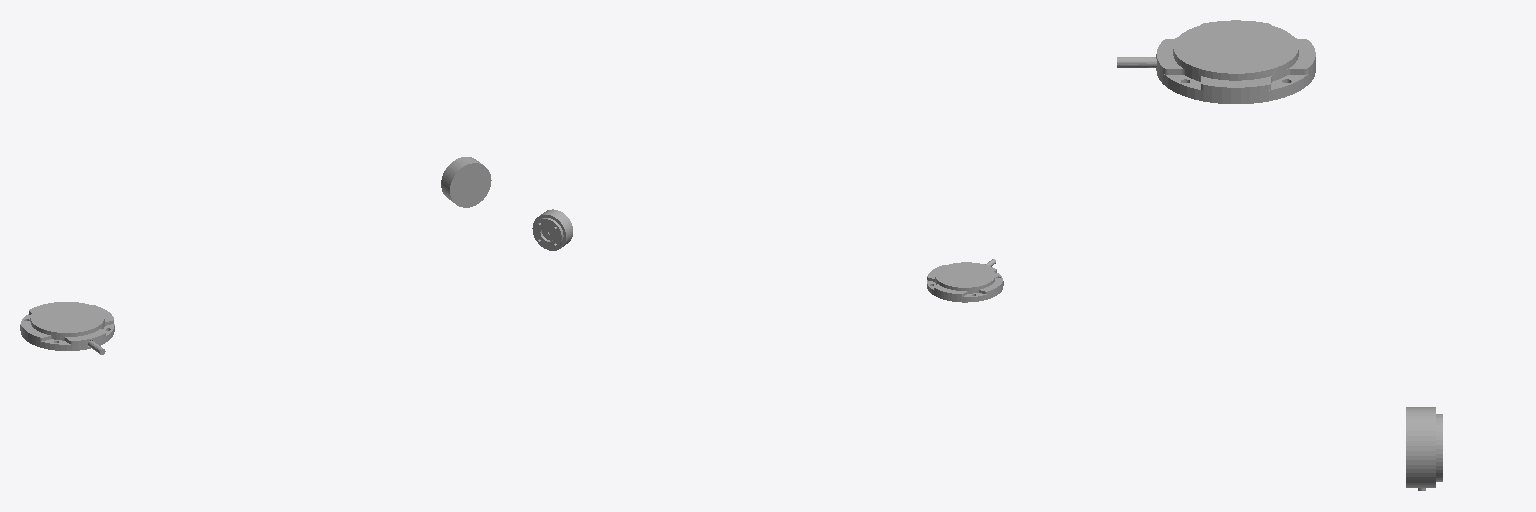
The robot description file, URDF, robot "ur5":
<?xml version="1.0" ?>
<!-- =================================================================================== -->
<!-- |    This document was autogenerated by xacro from /opt/ros/kinetic/share/ur_description/urdf/ur5_robot.urdf.xacro | -->
<!-- |    EDITING THIS FILE BY HAND IS NOT RECOMMENDED                                 | -->
<!-- =================================================================================== -->
<robot name="ur5" xmlns:xacro="http://ros.org/wiki/xacro">
  <gazebo>
    <plugin filename="libgazebo_ros_control.so" name="ros_control">
      <!--robotNamespace>/</robotNamespace-->
      <!--robotSimType>gazebo_ros_control/DefaultRobotHWSim</robotSimType-->
    </plugin>
    <!--
    <plugin name="gazebo_ros_power_monitor_controller" filename="libgazebo_ros_power_monitor.so">
      <alwaysOn>true</alwaysOn>
      <updateRate>1.0</updateRate>
      <timeout>5</timeout>
      <powerStateTopic>power_state</powerStateTopic>
      <powerStateRate>10.0</powerStateRate>
      <fullChargeCapacity>87.78</fullChargeCapacity>
      <dischargeRate>-474</dischargeRate>
      <chargeRate>525</chargeRate>
      <dischargeVoltage>15.52</dischargeVoltage>
      <chargeVoltage>16.41</chargeVoltage>
    </plugin>
-->
  </gazebo>
  <!-- measured from model -->
  <!--property name="shoulder_height" value="0.089159" /-->
  <!--property name="shoulder_offset" value="0.13585" /-->
  <!-- shoulder_offset - elbow_offset + wrist_1_length = 0.10915 -->
  <!--property name="upper_arm_length" value="0.42500" /-->
  <!--property name="elbow_offset" value="0.1197" /-->
  <!-- CAD measured -->
  <!--property name="forearm_length" value="0.39225" /-->
  <!--property name="wrist_1_length" value="0.093" /-->
  <!-- CAD measured -->
  <!--property name="wrist_2_length" value="0.09465" /-->
  <!-- In CAD this distance is 0.930, but in the spec it is 0.09465 -->
  <!--property name="wrist_3_length" value="0.0823" /-->
  <!-- manually measured -->
  <link name="base_link">
    <visual>
      <geometry>
        <mesh filename="package://ur_description/meshes/ur5/visual/base.obj"/>
      </geometry>
      <material name="LightGrey">
        <color rgba="0.7 0.7 0.7 1.0"/>
      </material>
    </visual>
    <collision>
      <geometry>
        <mesh filename="package://ur_description/meshes/ur5/collision/base.stl"/>
      </geometry>
    </collision>
    <inertial>
      <mass value="4.0"/>
      <origin rpy="0 0 0" xyz="0.0 0.0 0.0"/>
      <inertia ixx="0.00443333156" ixy="0.0" ixz="0.0" iyy="0.00443333156" iyz="0.0" izz="0.0072"/>
    </inertial>
  </link>
  <joint name="shoulder_pan_joint" type="revolute">
    <parent link="base_link"/>
    <child link="shoulder_link"/>
    <origin rpy="0.0 0.0 0.0" xyz="0.0 0.0 0.089159"/>
    <axis xyz="0 0 1"/>
    <limit effort="150.0" lower="-6.2831853" upper="6.2831853" velocity="3.15"/>
    <dynamics damping="0.0" friction="0.0"/>
  </joint>
  <link name="shoulder_link">
    <visual>
      <geometry>
        <mesh filename="package://ur_description/meshes/ur5/visual/shoulder.obj"/>
      </geometry>
      <material name="LightGrey">
        <color rgba="0.7 0.7 0.7 1.0"/>
      </material>
    </visual>
    <collision>
      <geometry>
        <mesh filename="package://ur_description/meshes/ur5/collision/shoulder.stl"/>
      </geometry>
    </collision>
    <inertial>
      <mass value="3.7"/>
      <origin rpy="0 0 0" xyz="0.0 0.0 0.0"/>
      <inertia ixx="0.010267495893" ixy="0.0" ixz="0.0" iyy="0.010267495893" iyz="0.0" izz="0.00666"/>
    </inertial>
  </link>
  <joint name="shoulder_lift_joint" type="revolute">
    <parent link="shoulder_link"/>
    <child link="upper_arm_link"/>
    <origin rpy="0.0 1.570796325 0.0" xyz="0.0 0.13585 0.0"/>
    <axis xyz="0 1 0"/>
    <limit effort="150.0" lower="-6.2831853" upper="6.2831853" velocity="3.15"/>
    <dynamics damping="0.0" friction="0.0"/>
  </joint>
  <link name="upper_arm_link">
    <visual>
      <geometry>
        <mesh filename="package://ur_description/meshes/ur5/visual/upperarm.obj"/>
      </geometry>
      <material name="LightGrey">
        <color rgba="0.7 0.7 0.7 1.0"/>
      </material>
    </visual>
    <collision>
      <geometry>
        <mesh filename="package://ur_description/meshes/ur5/collision/upperarm.stl"/>
      </geometry>
    </collision>
    <inertial>
      <mass value="8.393"/>
      <origin rpy="0 0 0" xyz="0.0 0.0 0.28"/>
      <inertia ixx="0.22689067591" ixy="0.0" ixz="0.0" iyy="0.22689067591" iyz="0.0" izz="0.0151074"/>
    </inertial>
  </link>
  <joint name="elbow_joint" type="revolute">
    <parent link="upper_arm_link"/>
    <child link="forearm_link"/>
    <origin rpy="0.0 0.0 0.0" xyz="0.0 -0.1197 0.425"/>
    <axis xyz="0 1 0"/>
    <limit effort="150.0" lower="-6.2831853" upper="6.2831853" velocity="3.15"/>
    <dynamics damping="0.0" friction="0.0"/>
  </joint>
  <link name="forearm_link">
    <visual>
      <geometry>
        <mesh filename="package://ur_description/meshes/ur5/visual/forearm.obj"/>
      </geometry>
      <material name="LightGrey">
        <color rgba="0.7 0.7 0.7 1.0"/>
      </material>
    </visual>
    <collision>
      <geometry>
        <mesh filename="package://ur_description/meshes/ur5/collision/forearm.stl"/>
      </geometry>
    </collision>
    <inertial>
      <mass value="2.275"/>
      <origin rpy="0 0 0" xyz="0.0 0.0 0.25"/>
      <inertia ixx="0.049443313556" ixy="0.0" ixz="0.0" iyy="0.049443313556" iyz="0.0" izz="0.004095"/>
    </inertial>
  </link>
  <joint name="wrist_1_joint" type="revolute">
    <parent link="forearm_link"/>
    <child link="wrist_1_link"/>
    <origin rpy="0.0 1.570796325 0.0" xyz="0.0 0.0 0.39225"/>
    <axis xyz="0 1 0"/>
    <limit effort="28.0" lower="-6.2831853" upper="6.2831853" velocity="3.2"/>
    <dynamics damping="0.0" friction="0.0"/>
  </joint>
  <link name="wrist_1_link">
    <visual>
      <geometry>
        <mesh filename="package://ur_description/meshes/ur5/visual/wrist1.obj"/>
      </geometry>
      <material name="LightGrey">
        <color rgba="0.7 0.7 0.7 1.0"/>
      </material>
    </visual>
    <collision>
      <geometry>
        <mesh filename="package://ur_description/meshes/ur5/collision/wrist1.stl"/>
      </geometry>
    </collision>
    <inertial>
      <mass value="1.219"/>
      <origin rpy="0 0 0" xyz="0.0 0.0 0.0"/>
      <inertia ixx="0.111172755531" ixy="0.0" ixz="0.0" iyy="0.111172755531" iyz="0.0" izz="0.21942"/>
    </inertial>
  </link>
  <joint name="wrist_2_joint" type="revolute">
    <parent link="wrist_1_link"/>
    <child link="wrist_2_link"/>
    <origin rpy="0.0 0.0 0.0" xyz="0.0 0.093 0.0"/>
    <axis xyz="0 0 1"/>
    <limit effort="28.0" lower="-6.2831853" upper="6.2831853" velocity="3.2"/>
    <dynamics damping="0.0" friction="0.0"/>
  </joint>
  <link name="wrist_2_link">
    <visual>
      <geometry>
        <mesh filename="package://ur_description/meshes/ur5/visual/wrist2.obj"/>
      </geometry>
      <material name="LightGrey">
        <color rgba="0.7 0.7 0.7 1.0"/>
      </material>
    </visual>
    <collision>
      <geometry>
        <mesh filename="package://ur_description/meshes/ur5/collision/wrist2.stl"/>
      </geometry>
    </collision>
    <inertial>
      <mass value="1.219"/>
      <origin rpy="0 0 0" xyz="0.0 0.0 0.0"/>
      <inertia ixx="0.111172755531" ixy="0.0" ixz="0.0" iyy="0.111172755531" iyz="0.0" izz="0.21942"/>
    </inertial>
  </link>
  <joint name="wrist_3_joint" type="revolute">
    <parent link="wrist_2_link"/>
    <child link="wrist_3_link"/>
    <origin rpy="0.0 0.0 0.0" xyz="0.0 0.0 0.09465"/>
    <axis xyz="0 1 0"/>
    <limit effort="28.0" lower="-6.2831853" upper="6.2831853" velocity="3.2"/>
    <dynamics damping="0.0" friction="0.0"/>
  </joint>
  <link name="wrist_3_link">
    <visual>
      <geometry>
        <mesh filename="package://ur_description/meshes/ur5/visual/wrist3.obj"/>
      </geometry>
      <material name="LightGrey">
        <color rgba="0.7 0.7 0.7 1.0"/>
      </material>
    </visual>
    <collision>
      <geometry>
        <mesh filename="package://ur_description/meshes/ur5/collision/wrist3.stl"/>
      </geometry>
    </collision>
    <inertial>
      <mass value="0.1879"/>
      <origin rpy="0 0 0" xyz="0.0 0.0 0.0"/>
      <inertia ixx="0.0171364731454" ixy="0.0" ixz="0.0" iyy="0.0171364731454" iyz="0.0" izz="0.033822"/>
    </inertial>
  </link>
  <joint name="ee_fixed_joint" type="fixed">
    <parent link="wrist_3_link"/>
    <child link="ee_link"/>
    <origin rpy="0.0 0.0 1.570796325" xyz="0.0 0.0823 0.0"/>
  </joint>
  <link name="ee_link">
    <collision>
      <geometry>
        <box size="0.01 0.01 0.01"/>
      </geometry>
      <origin rpy="0 0 0" xyz="-0.01 0 0"/>
    </collision>
  </link>
  <transmission name="shoulder_pan_trans">
    <type>transmission_interface/SimpleTransmission</type>
    <joint name="shoulder_pan_joint">
      <hardwareInterface>PositionJointInterface</hardwareInterface>
    </joint>
    <actuator name="shoulder_pan_motor">
      <mechanicalReduction>1</mechanicalReduction>
    </actuator>
  </transmission>
  <transmission name="shoulder_lift_trans">
    <type>transmission_interface/SimpleTransmission</type>
    <joint name="shoulder_lift_joint">
      <hardwareInterface>PositionJointInterface</hardwareInterface>
    </joint>
    <actuator name="shoulder_lift_motor">
      <mechanicalReduction>1</mechanicalReduction>
    </actuator>
  </transmission>
  <transmission name="elbow_trans">
    <type>transmission_interface/SimpleTransmission</type>
    <joint name="elbow_joint">
      <hardwareInterface>PositionJointInterface</hardwareInterface>
    </joint>
    <actuator name="elbow_motor">
      <mechanicalReduction>1</mechanicalReduction>
    </actuator>
  </transmission>
  <transmission name="wrist_1_trans">
    <type>transmission_interface/SimpleTransmission</type>
    <joint name="wrist_1_joint">
      <hardwareInterface>PositionJointInterface</hardwareInterface>
    </joint>
    <actuator name="wrist_1_motor">
      <mechanicalReduction>1</mechanicalReduction>
    </actuator>
  </transmission>
  <transmission name="wrist_2_trans">
    <type>transmission_interface/SimpleTransmission</type>
    <joint name="wrist_2_joint">
      <hardwareInterface>PositionJointInterface</hardwareInterface>
    </joint>
    <actuator name="wrist_2_motor">
      <mechanicalReduction>1</mechanicalReduction>
    </actuator>
  </transmission>
  <transmission name="wrist_3_trans">
    <type>transmission_interface/SimpleTransmission</type>
    <joint name="wrist_3_joint">
      <hardwareInterface>PositionJointInterface</hardwareInterface>
    </joint>
    <actuator name="wrist_3_motor">
      <mechanicalReduction>1</mechanicalReduction>
    </actuator>
  </transmission>
  <!-- nothing to do here at the moment -->
  <!-- ROS base_link to UR 'Base' Coordinates transform -->
  <link name="base"/>
  <joint name="base_link-base_fixed_joint" type="fixed">
    <!-- NOTE: this rotation is only needed as long as base_link itself is
                 not corrected wrt the real robot (ie: rotated over 180
                 degrees)
      -->
    <origin rpy="0 0 -3.14159265" xyz="0 0 0"/>
    <parent link="base_link"/>
    <child link="base"/>
  </joint>
  <!-- Frame coincident with all-zeros TCP on UR controller -->
  <link name="tool0"/>
  <joint name="wrist_3_link-tool0_fixed_joint" type="fixed">
    <origin rpy="-1.570796325 0 0" xyz="0 0.0823 0"/>
    <parent link="wrist_3_link"/>
    <child link="tool0"/>
  </joint>
  <link name="world"/>
  <joint name="world_joint" type="fixed">
    <parent link="world"/>
    <child link="base_link"/>
    <origin rpy="0.0 0.0 0.0" xyz="0.0 0.0 0.0"/>
  </joint>
</robot>


--- What the picture shows (computed from the rendered views, not written in the file) ---
The picture shows the robot from 3 angles, left to right: view 1: azimuth 30°, elevation 25°; view 2: azimuth 150°, elevation 25°; view 3: azimuth 270°, elevation 25°; orthographic projection.
Robot: ur5 — 11 links, 10 joints (6 revolute, 4 fixed); root link world; default pose: all joints at 0.
Links seen in each view (by area): view 1: base_link, wrist_3_link; view 2: base_link, wrist_3_link; view 3: base_link, wrist_3_link.
Link boxes in pixels (x1,y1,x2,y2): base_link: (20, 302, 114, 354); wrist_3_link: (441, 157, 491, 207); base_link: (927, 259, 1003, 302); wrist_3_link: (532, 209, 572, 250); base_link: (1117, 20, 1315, 103); wrist_3_link: (1406, 407, 1442, 490).
Size in the robot's own frame: 0.9281 by 0.301 by 0.0805 metres.
2 mesh visuals loaded from 7 distinct referenced files (2 OBJ); not drawn: 5 (reference not matched to a file when rendering).